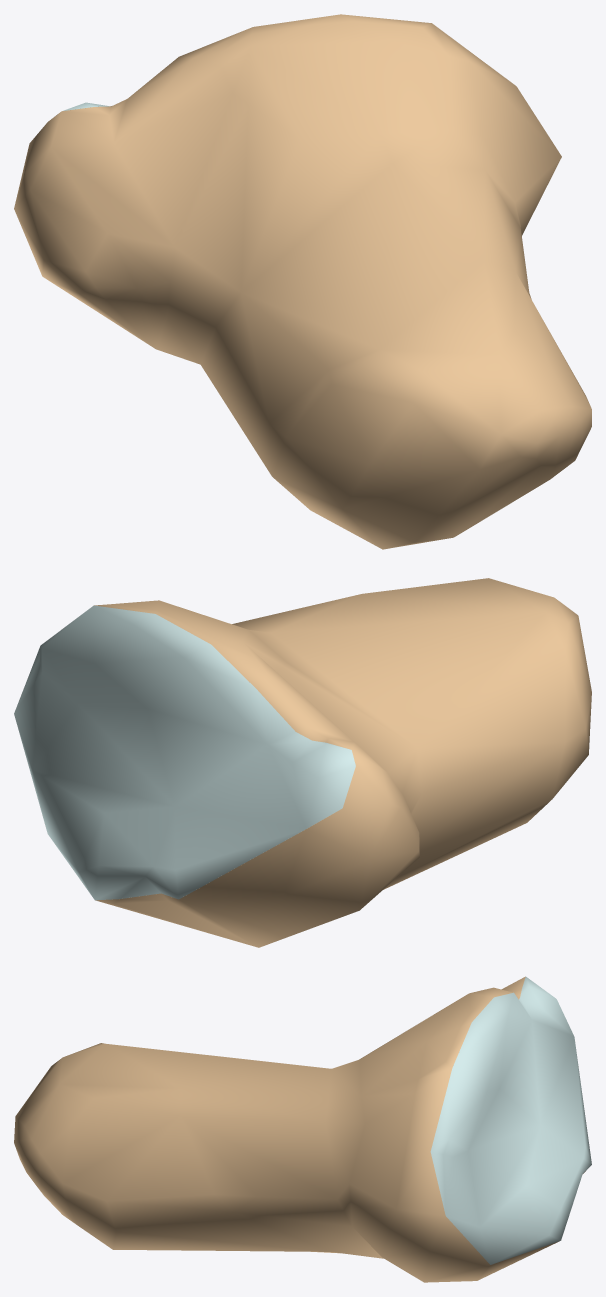
Rendered from Distal_phalanx_of_3rd_finger_of_foot.r_Generated_Mesh_From_X3D..glb.
3 renders of one model, top to bottom at view 1: azimuth 30°, elevation 25°; view 2: azimuth 150°, elevation 25°; view 3: azimuth 270°, elevation 25°, orthographic. The views are drawn at different scales.
Visible parts, largest first — view 1: Distal_phalanx_of_3rd_finger_of_foot.r_Generated_Mesh_From_X; view 2: Distal_phalanx_of_3rd_finger_of_foot.r_Generated_Mesh_From_X; view 3: Distal_phalanx_of_3rd_finger_of_foot.r_Generated_Mesh_From_X.
Boxes of the visible parts, x1=… form: Distal_phalanx_of_3rd_finger_of_foot.r_Generated_Mesh_From_X: x1=14, y1=14, x2=591, y2=549; Distal_phalanx_of_3rd_finger_of_foot.r_Generated_Mesh_From_X: x1=14, y1=578, x2=591, y2=947; Distal_phalanx_of_3rd_finger_of_foot.r_Generated_Mesh_From_X: x1=14, y1=976, x2=591, y2=1282.
Size of the model in its own units: 0.00885 by 0.00616 by 0.012.
